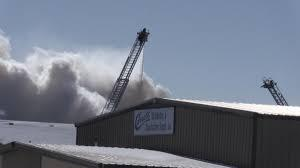smoke: (0, 26, 178, 125)
